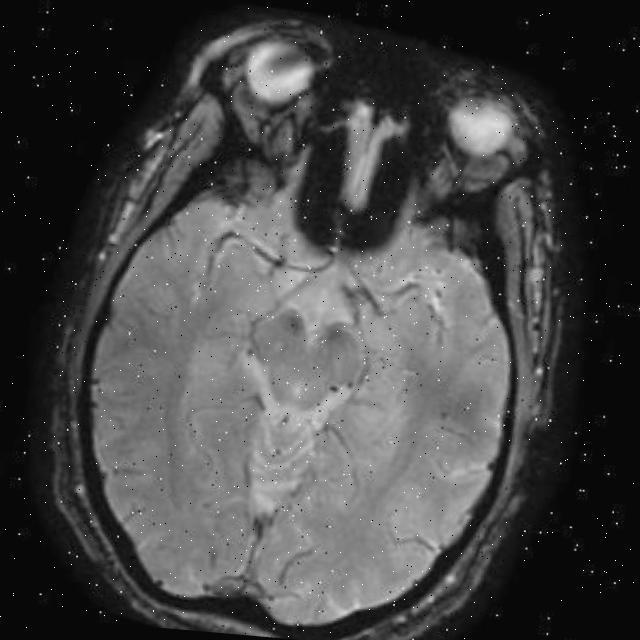MCI: (372, 234, 497, 377), (191, 193, 300, 316)
